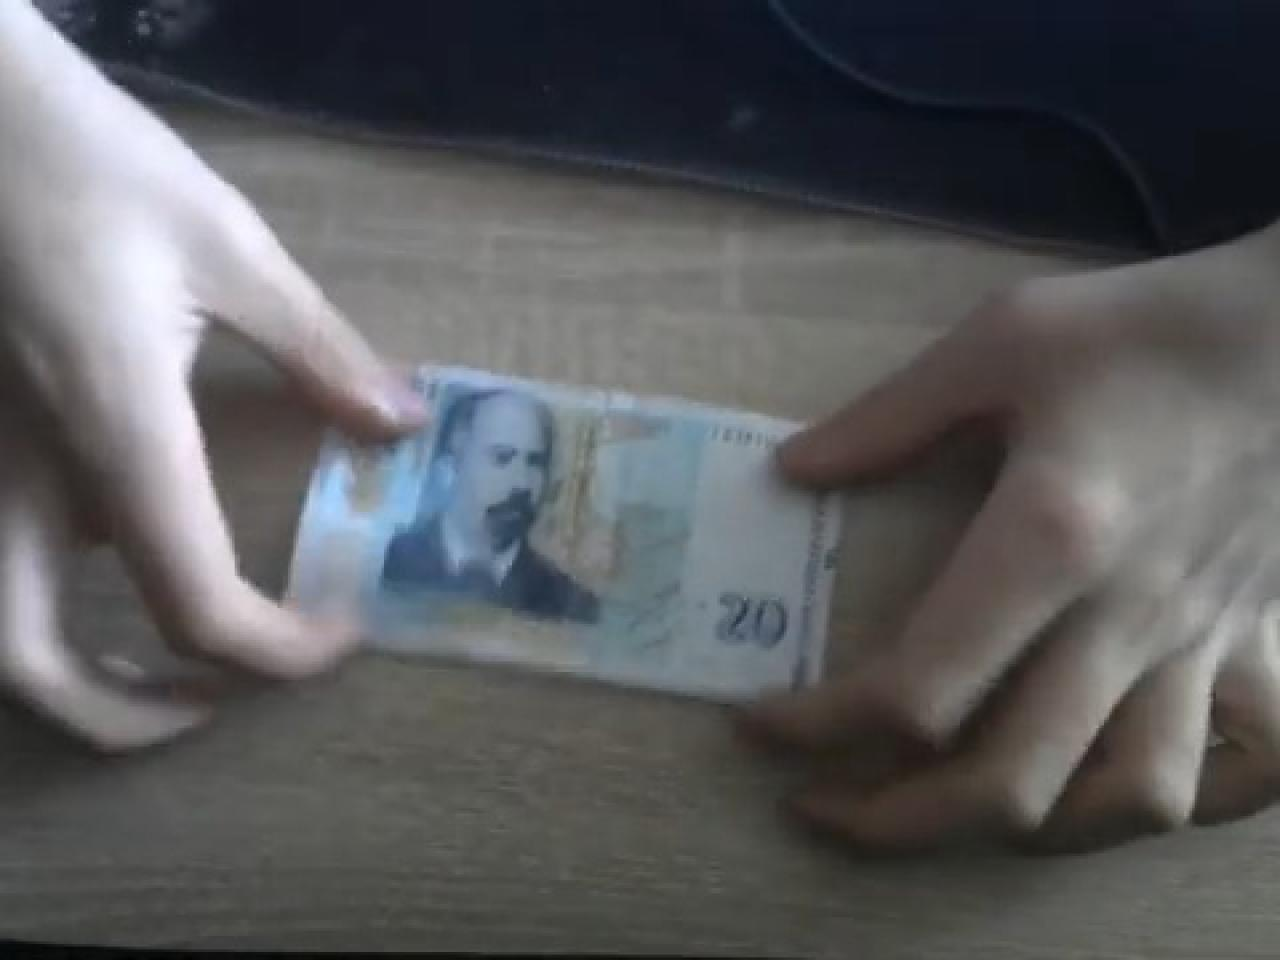20leva: (376, 384, 603, 627)
